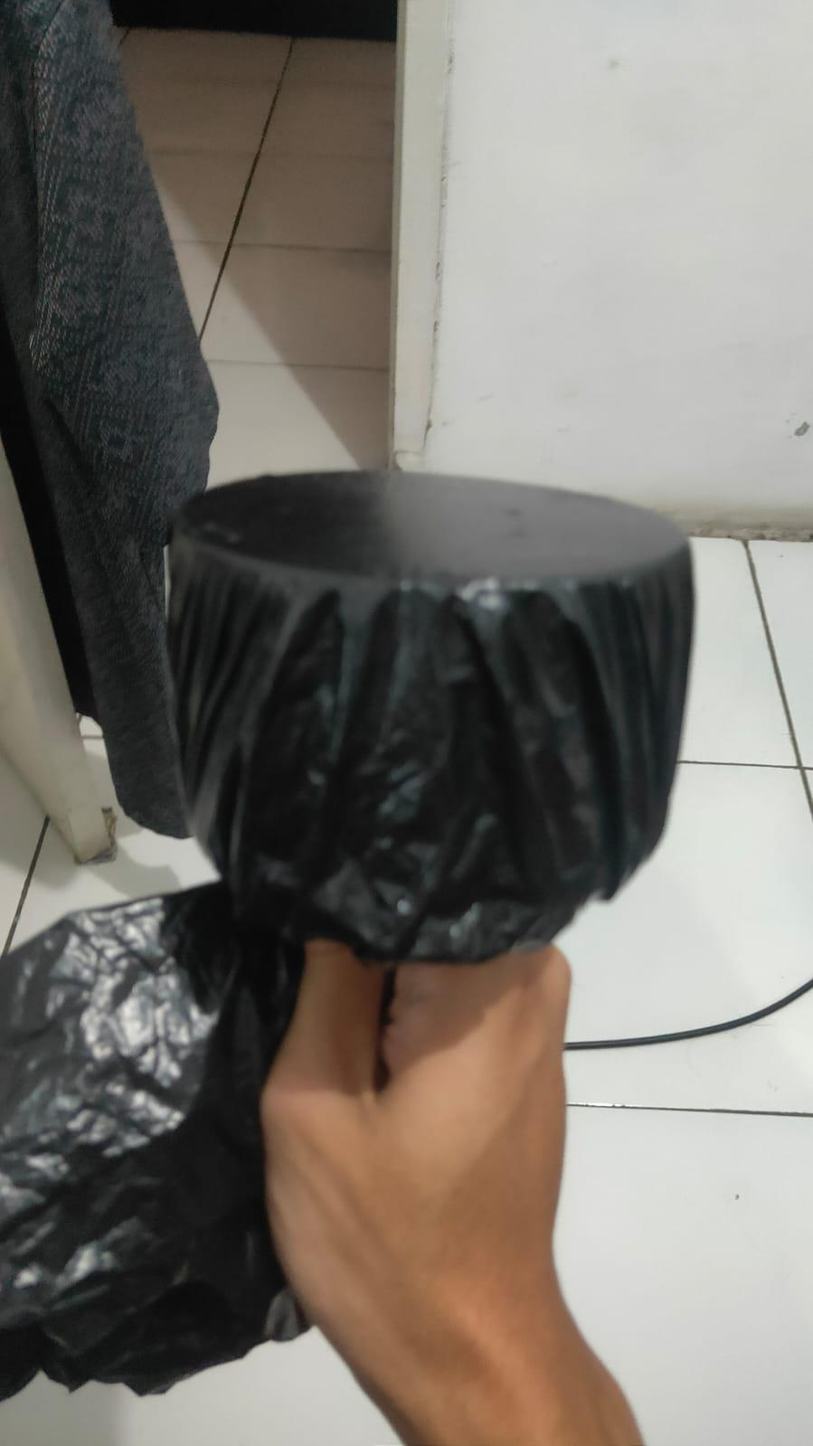undamaged: (141, 449, 714, 972)
